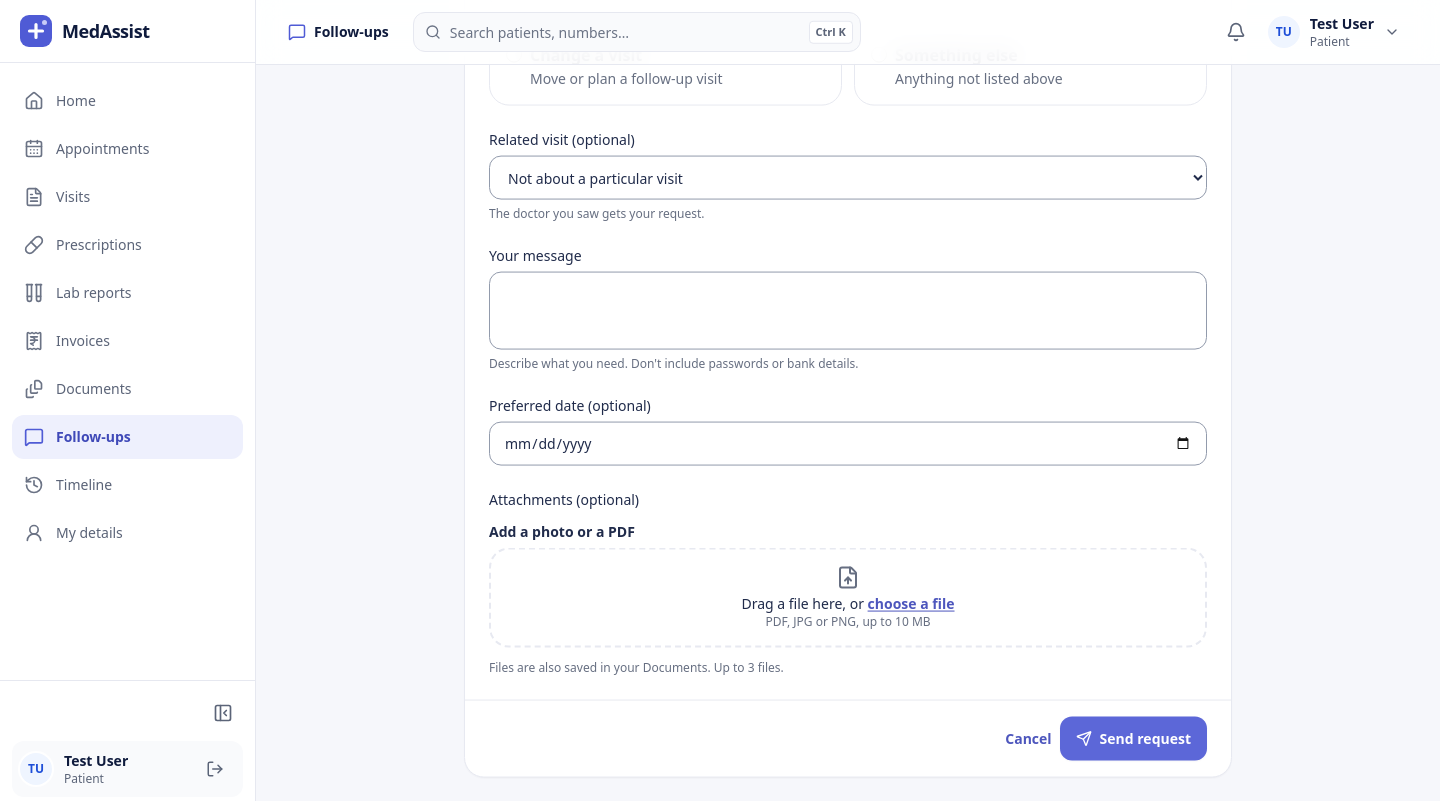
Scenario: New follow-up request (patient) › always shows the emergency banner and explains the request limit
(page scrolled)
// Validation first: a type and a message are needed.
Step 1. Click the button "Send request" → click(1133, 739), box [1060,717,1207,761]
(page scrolled)
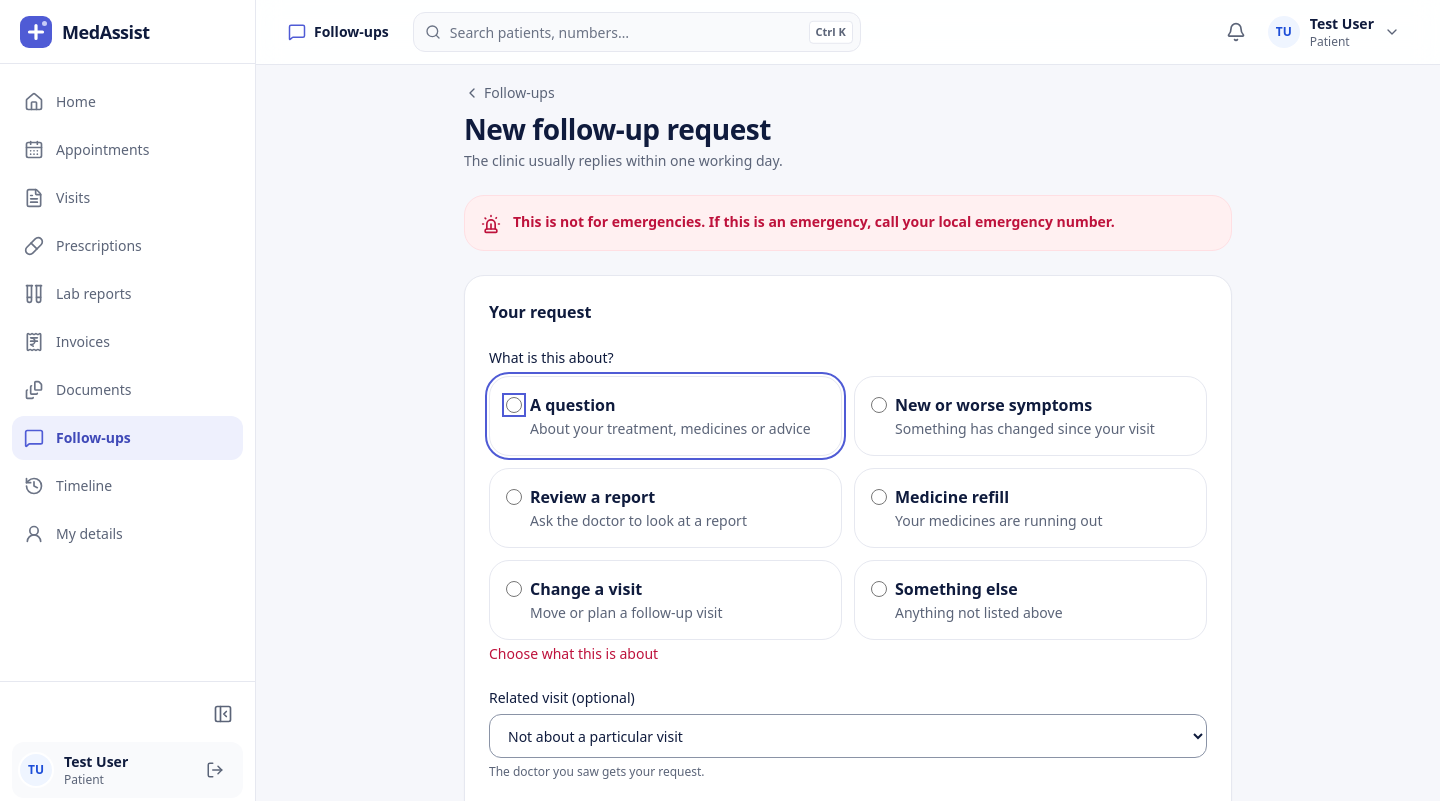
Expected: the text "Choose what this is about" is shown, [489,644,658,663]
Step 2. Click the radio button labelled "New or worse symptoms Something has changed since your visit" → click(879, 405), box [871,397,887,413]
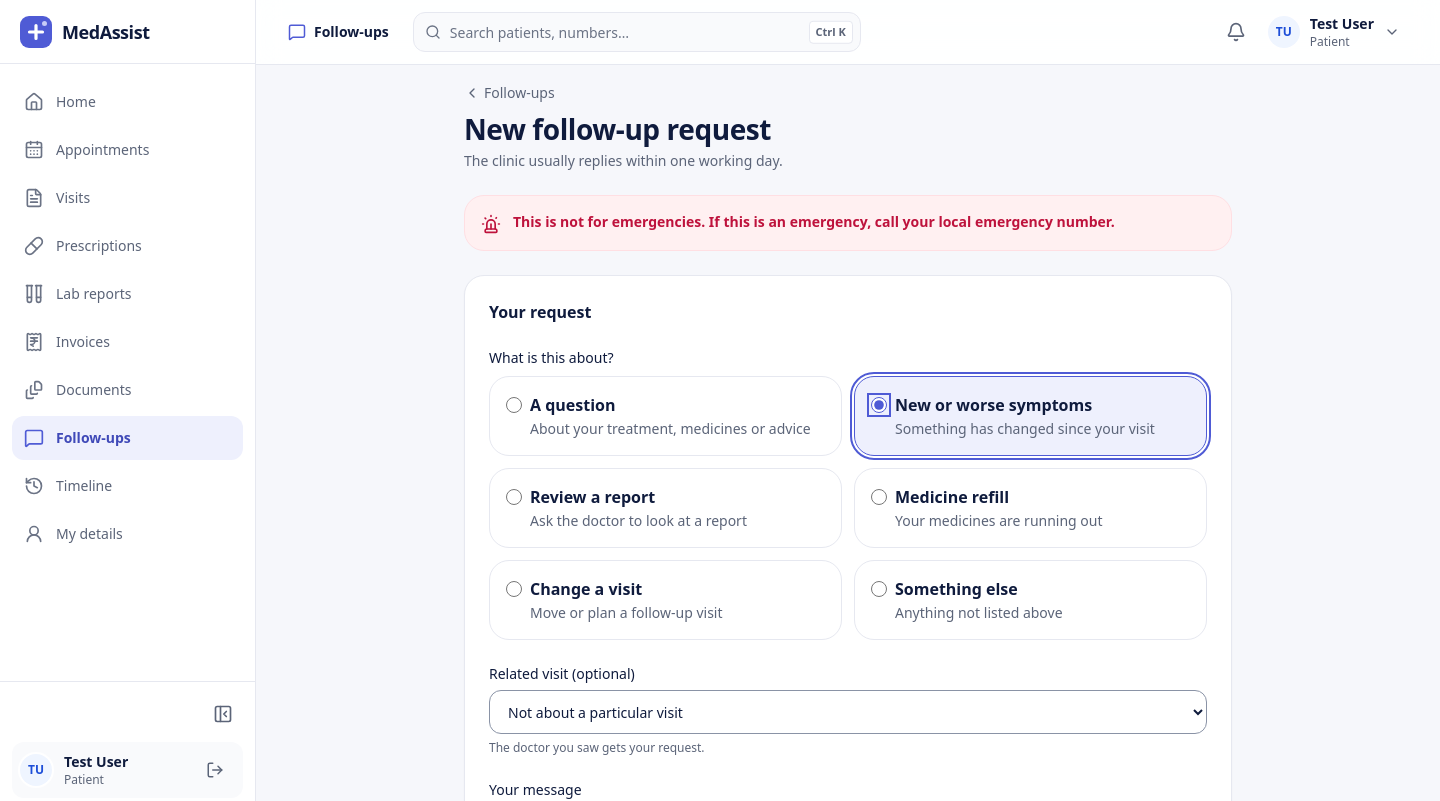
Step 3. Select "10 Sep 2026 · Dr Anil Mehta" in the dropdown labelled "Related visit (optional)" → (848, 712), box [489,690,1207,734]
(page scrolled)
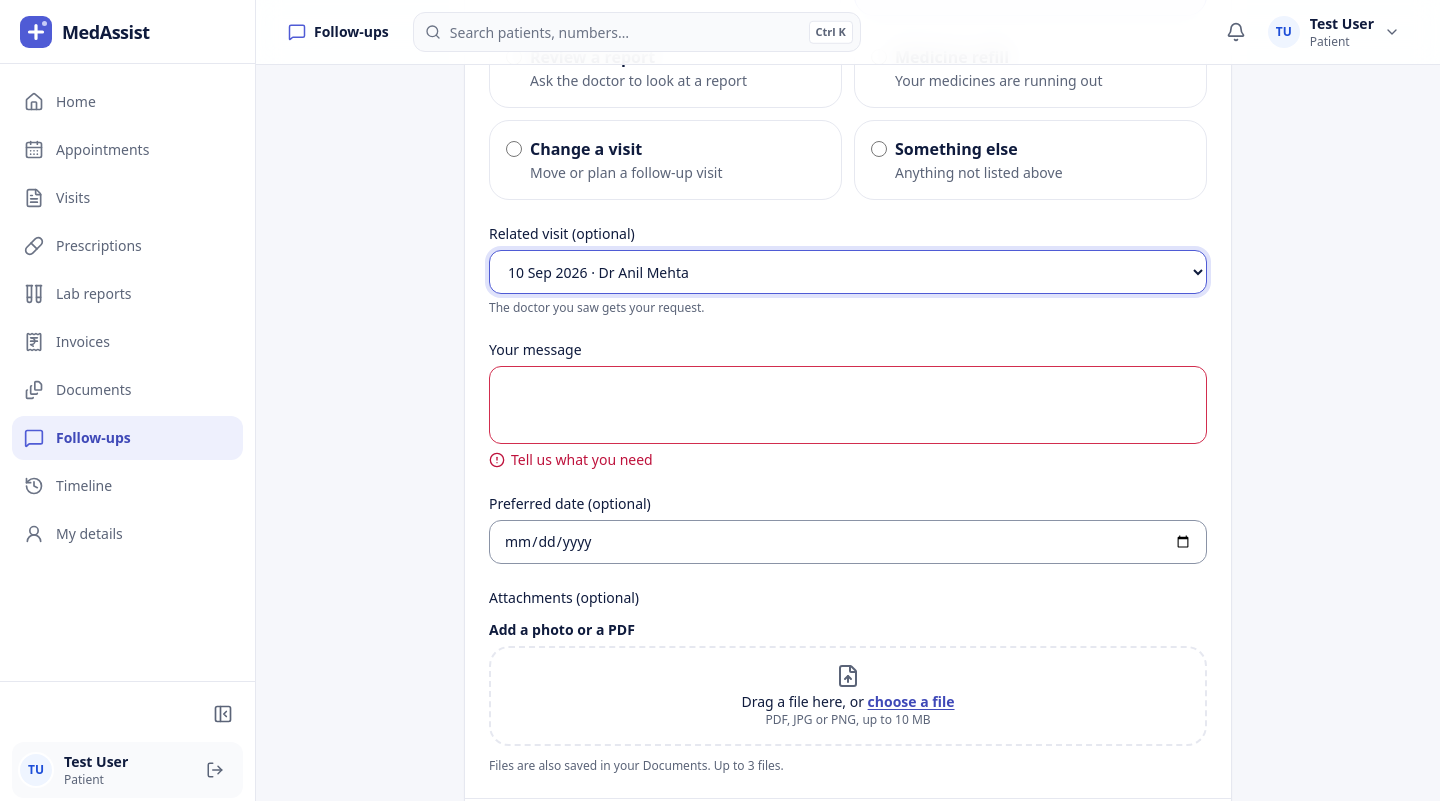
Step 4. Type "The cough is worse at night." into the text box labelled "Your message" → (848, 405), box [489,366,1207,444]
(page scrolled)
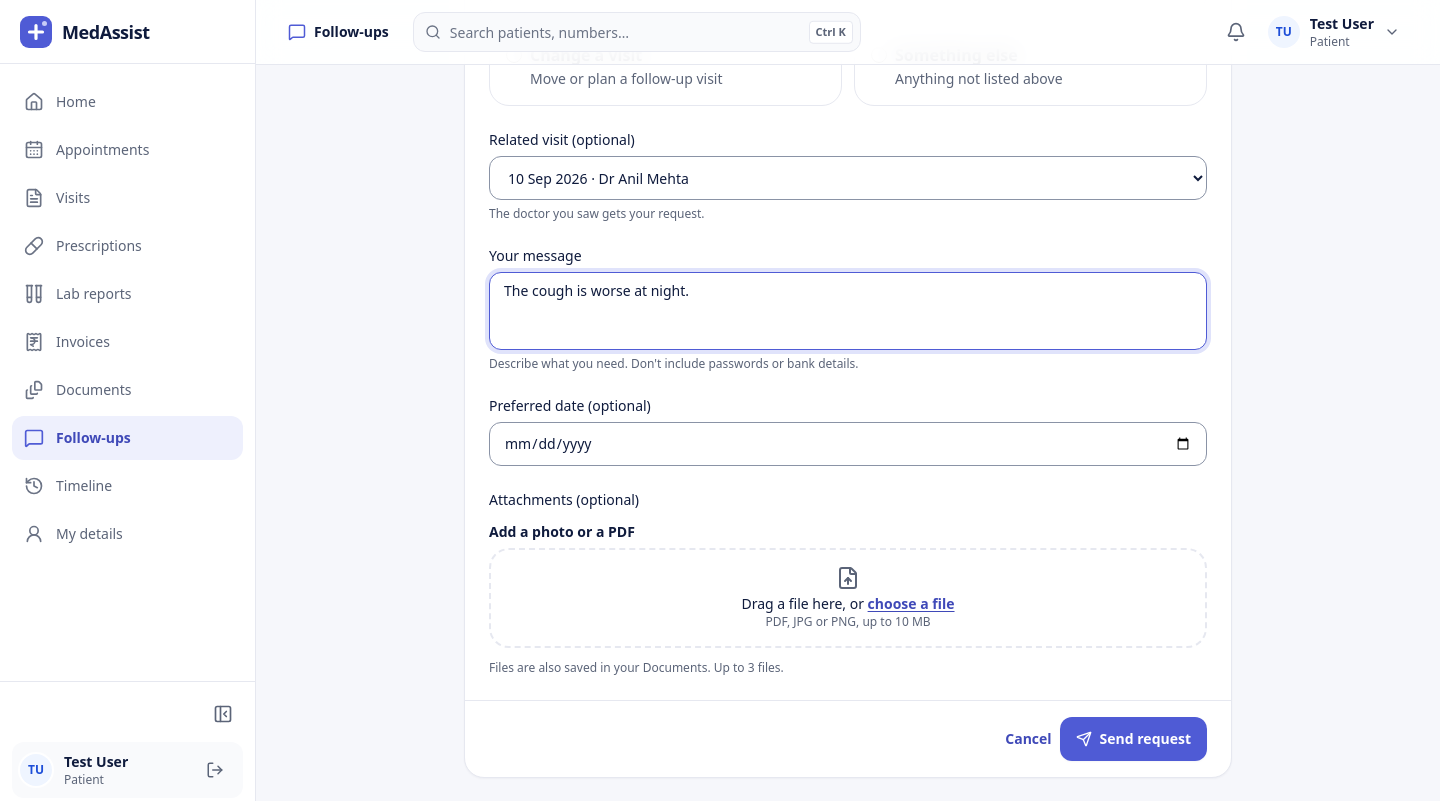
Step 5. Click the button "Send request" → click(1133, 739), box [1060,717,1207,761]
(page scrolled)
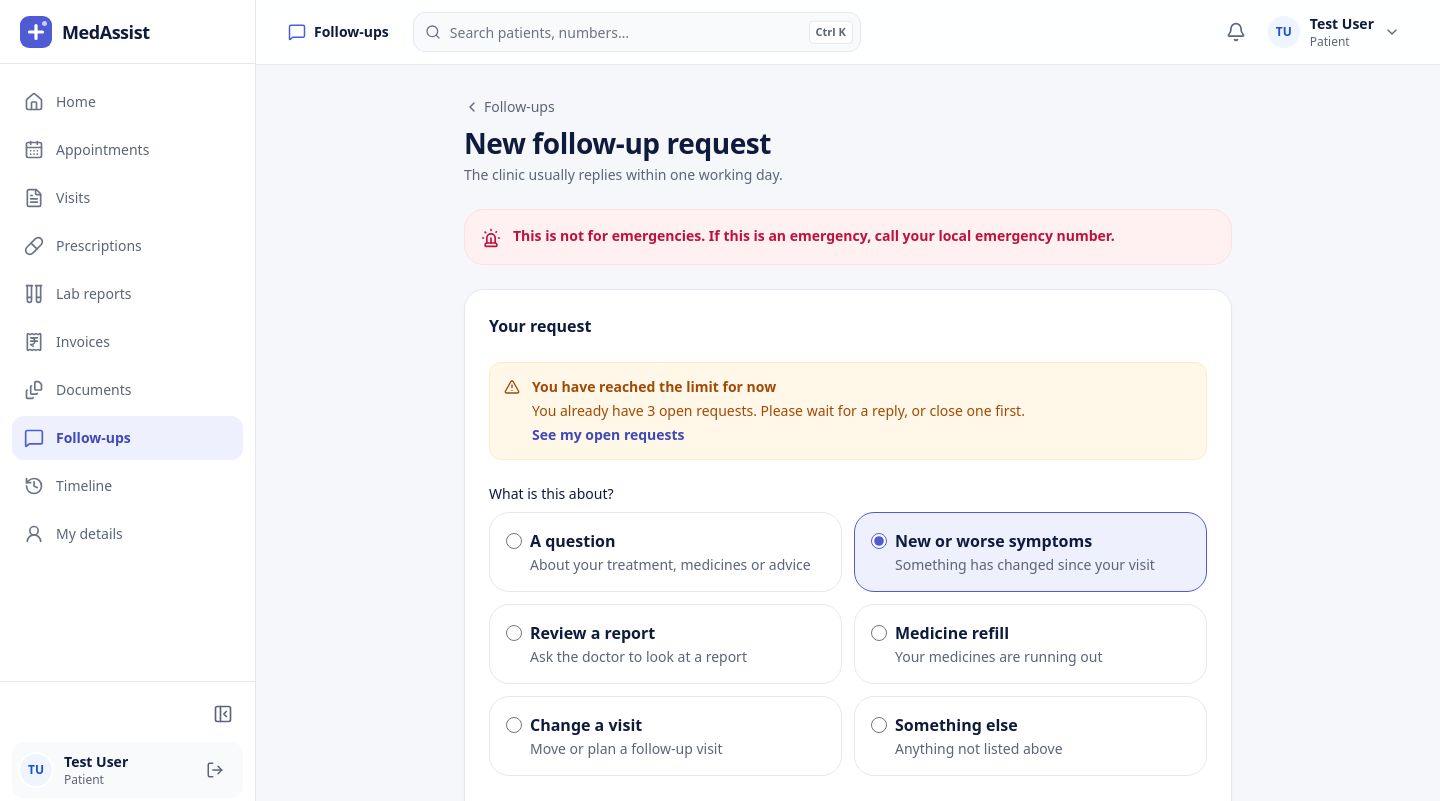
Expected: the element "not for emergencies" is shown, [464,209,1232,265]
Expected: the text "You have reached the limit for now" is shown, [532,377,776,396]
Expected: the text "You already have 3 open requests" is shown, [532,401,1025,420]
